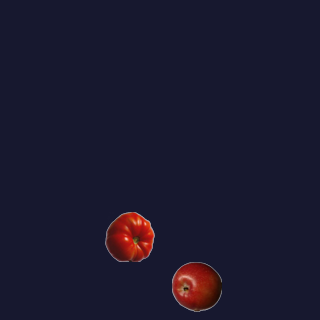Apple Braeburn: (171, 261, 221, 311)
Tomato 3: (104, 211, 154, 261)
